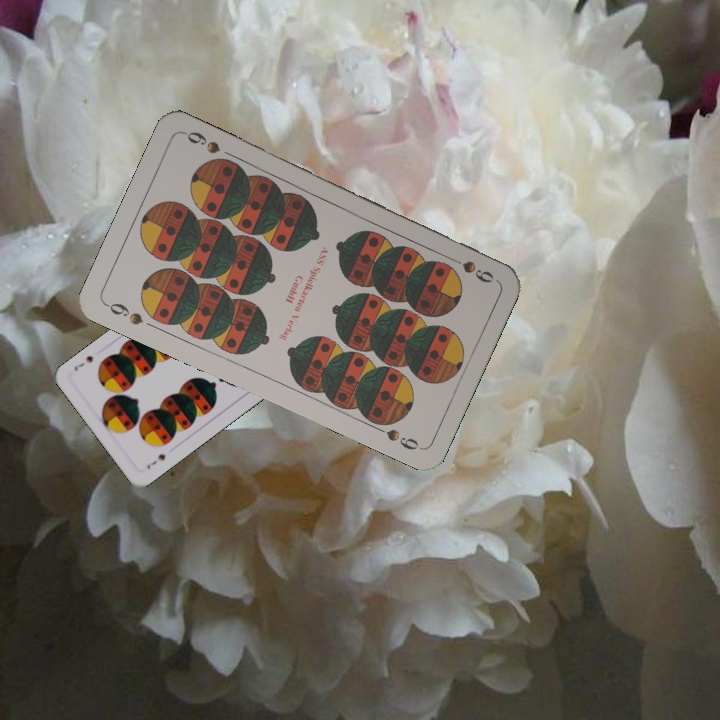S7: (143, 450, 168, 472)
S9: (442, 251, 497, 286), (101, 298, 146, 328)
